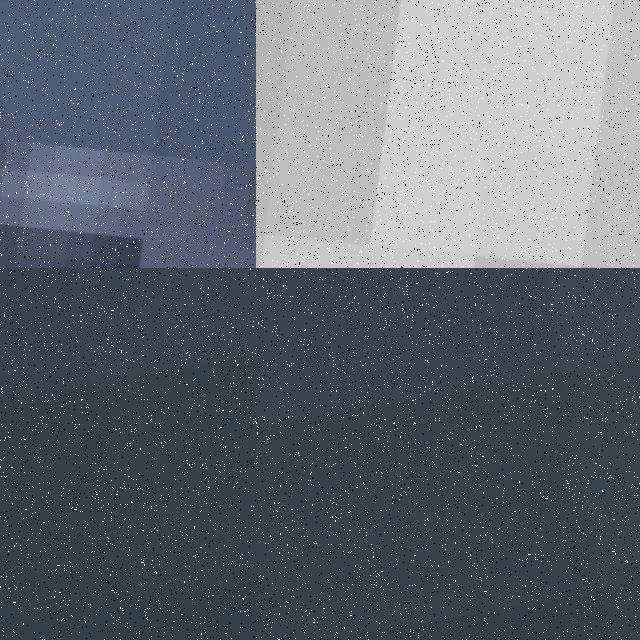0: (0, 0, 256, 268)
drone: (256, 0, 640, 268)
